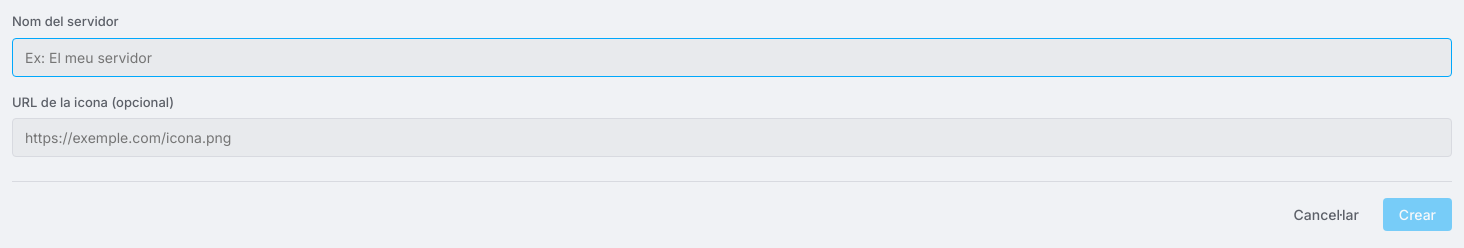
Test case: CreateServerPanel › el botó s activa amb nom de 1 caracter (validacio en submit)
The image size is (1464, 248).
Note: Validation only happens on submit, not on input change
Type "A" into the field labelled "Nom del servidor" at (732, 57), box [12,38,1452,76]
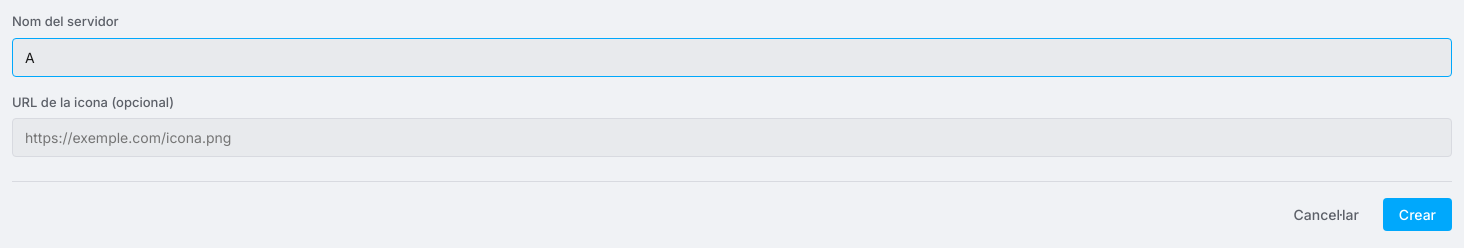
Expected: the button "Crear" is enabled, [1383,198,1452,231]
